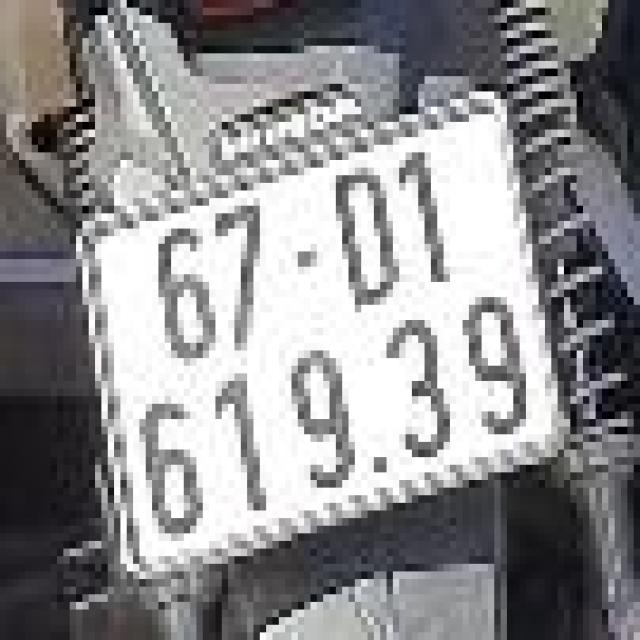1: (206, 362, 276, 522), (390, 145, 459, 297)
3: (377, 308, 459, 468)
6: (142, 217, 218, 370), (130, 400, 206, 545)
7: (209, 198, 279, 358)
9: (447, 290, 542, 457), (276, 343, 364, 510)
D: (327, 160, 402, 312)
